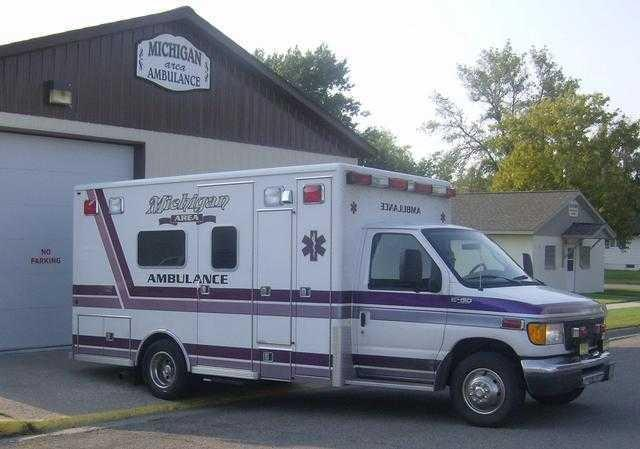car: (69, 161, 614, 427)
